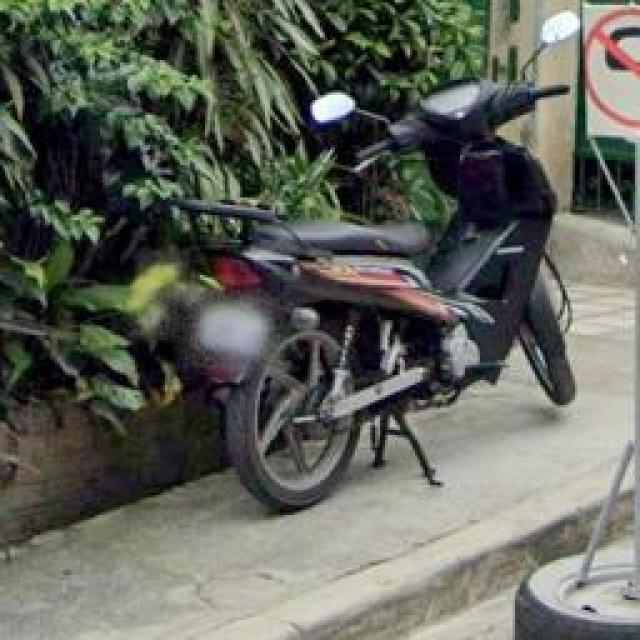motorcycle: (174, 7, 584, 514)
